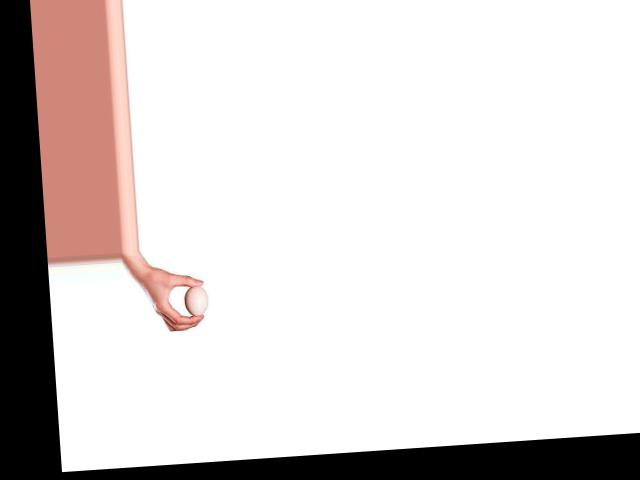egg: (183, 284, 208, 316)
